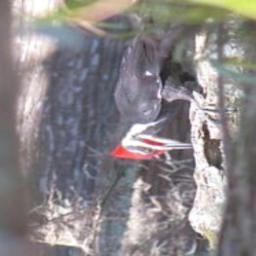Woodpecker: (105, 6, 238, 160)
